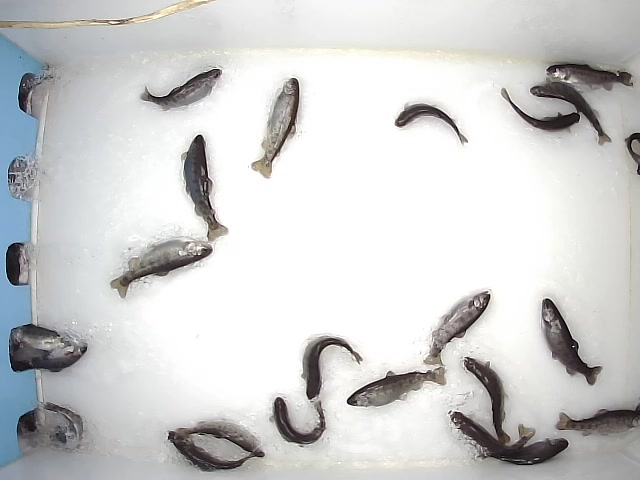fish: (107, 235, 213, 300), (538, 297, 604, 388), (178, 133, 231, 244), (419, 287, 491, 366), (528, 80, 613, 146), (248, 75, 301, 180), (460, 355, 513, 447), (345, 363, 447, 408), (445, 408, 536, 457), (298, 332, 363, 400), (165, 428, 258, 472), (174, 417, 271, 459), (138, 65, 222, 113), (498, 86, 582, 134), (393, 99, 469, 147), (267, 395, 327, 448), (473, 436, 568, 466), (544, 62, 635, 90), (554, 408, 640, 436), (20, 338, 88, 372)
